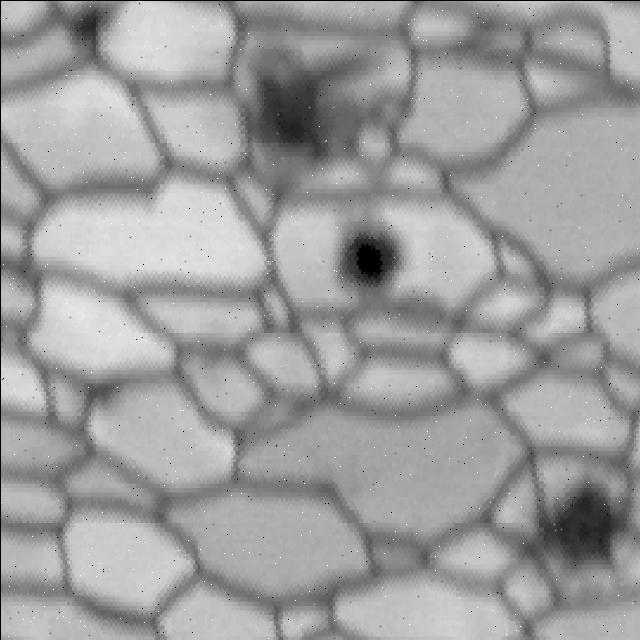good_void: (234, 17, 431, 188), (513, 469, 624, 578), (334, 216, 417, 296), (54, 0, 122, 64), (75, 366, 130, 417)
